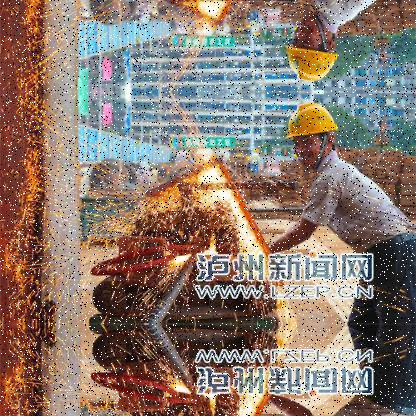Helmet: (281, 99, 342, 174), (292, 12, 342, 86)
